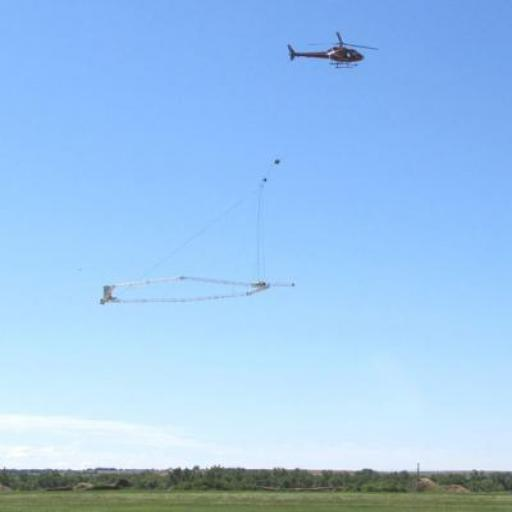helicopter: (289, 35, 377, 72)
